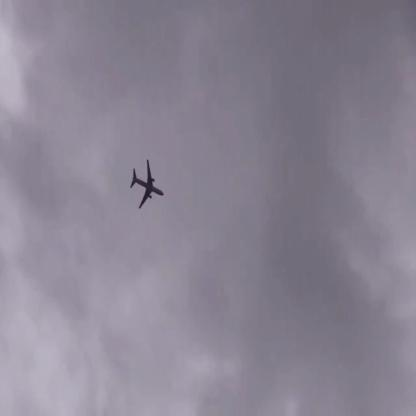CIV_Plane: (131, 158, 164, 208)
